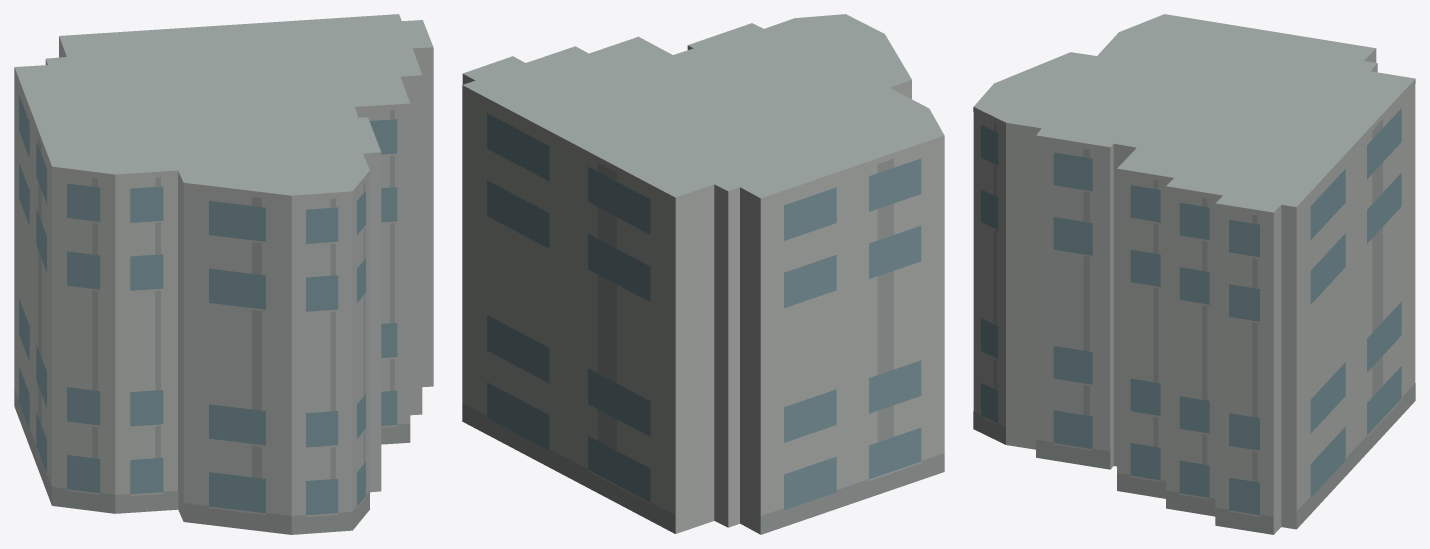
File: survey-upis-33040751.glb
3 renders of one model, left to right at view 1: azimuth 30°, elevation 25°; view 2: azimuth 150°, elevation 25°; view 3: azimuth 270°, elevation 25°, orthographic. The views are drawn at different scales.
Visible parts, largest first — view 1: survey-upis-33040751.tmp; view 2: survey-upis-33040751.tmp; view 3: survey-upis-33040751.tmp.
Boxes of the visible parts, <box> form: survey-upis-33040751.tmp: <box>14,14,433,534</box>; survey-upis-33040751.tmp: <box>462,14,944,534</box>; survey-upis-33040751.tmp: <box>973,14,1415,534</box>.
Size of the model in its own units: 18.77 by 14.2 by 17.66.
